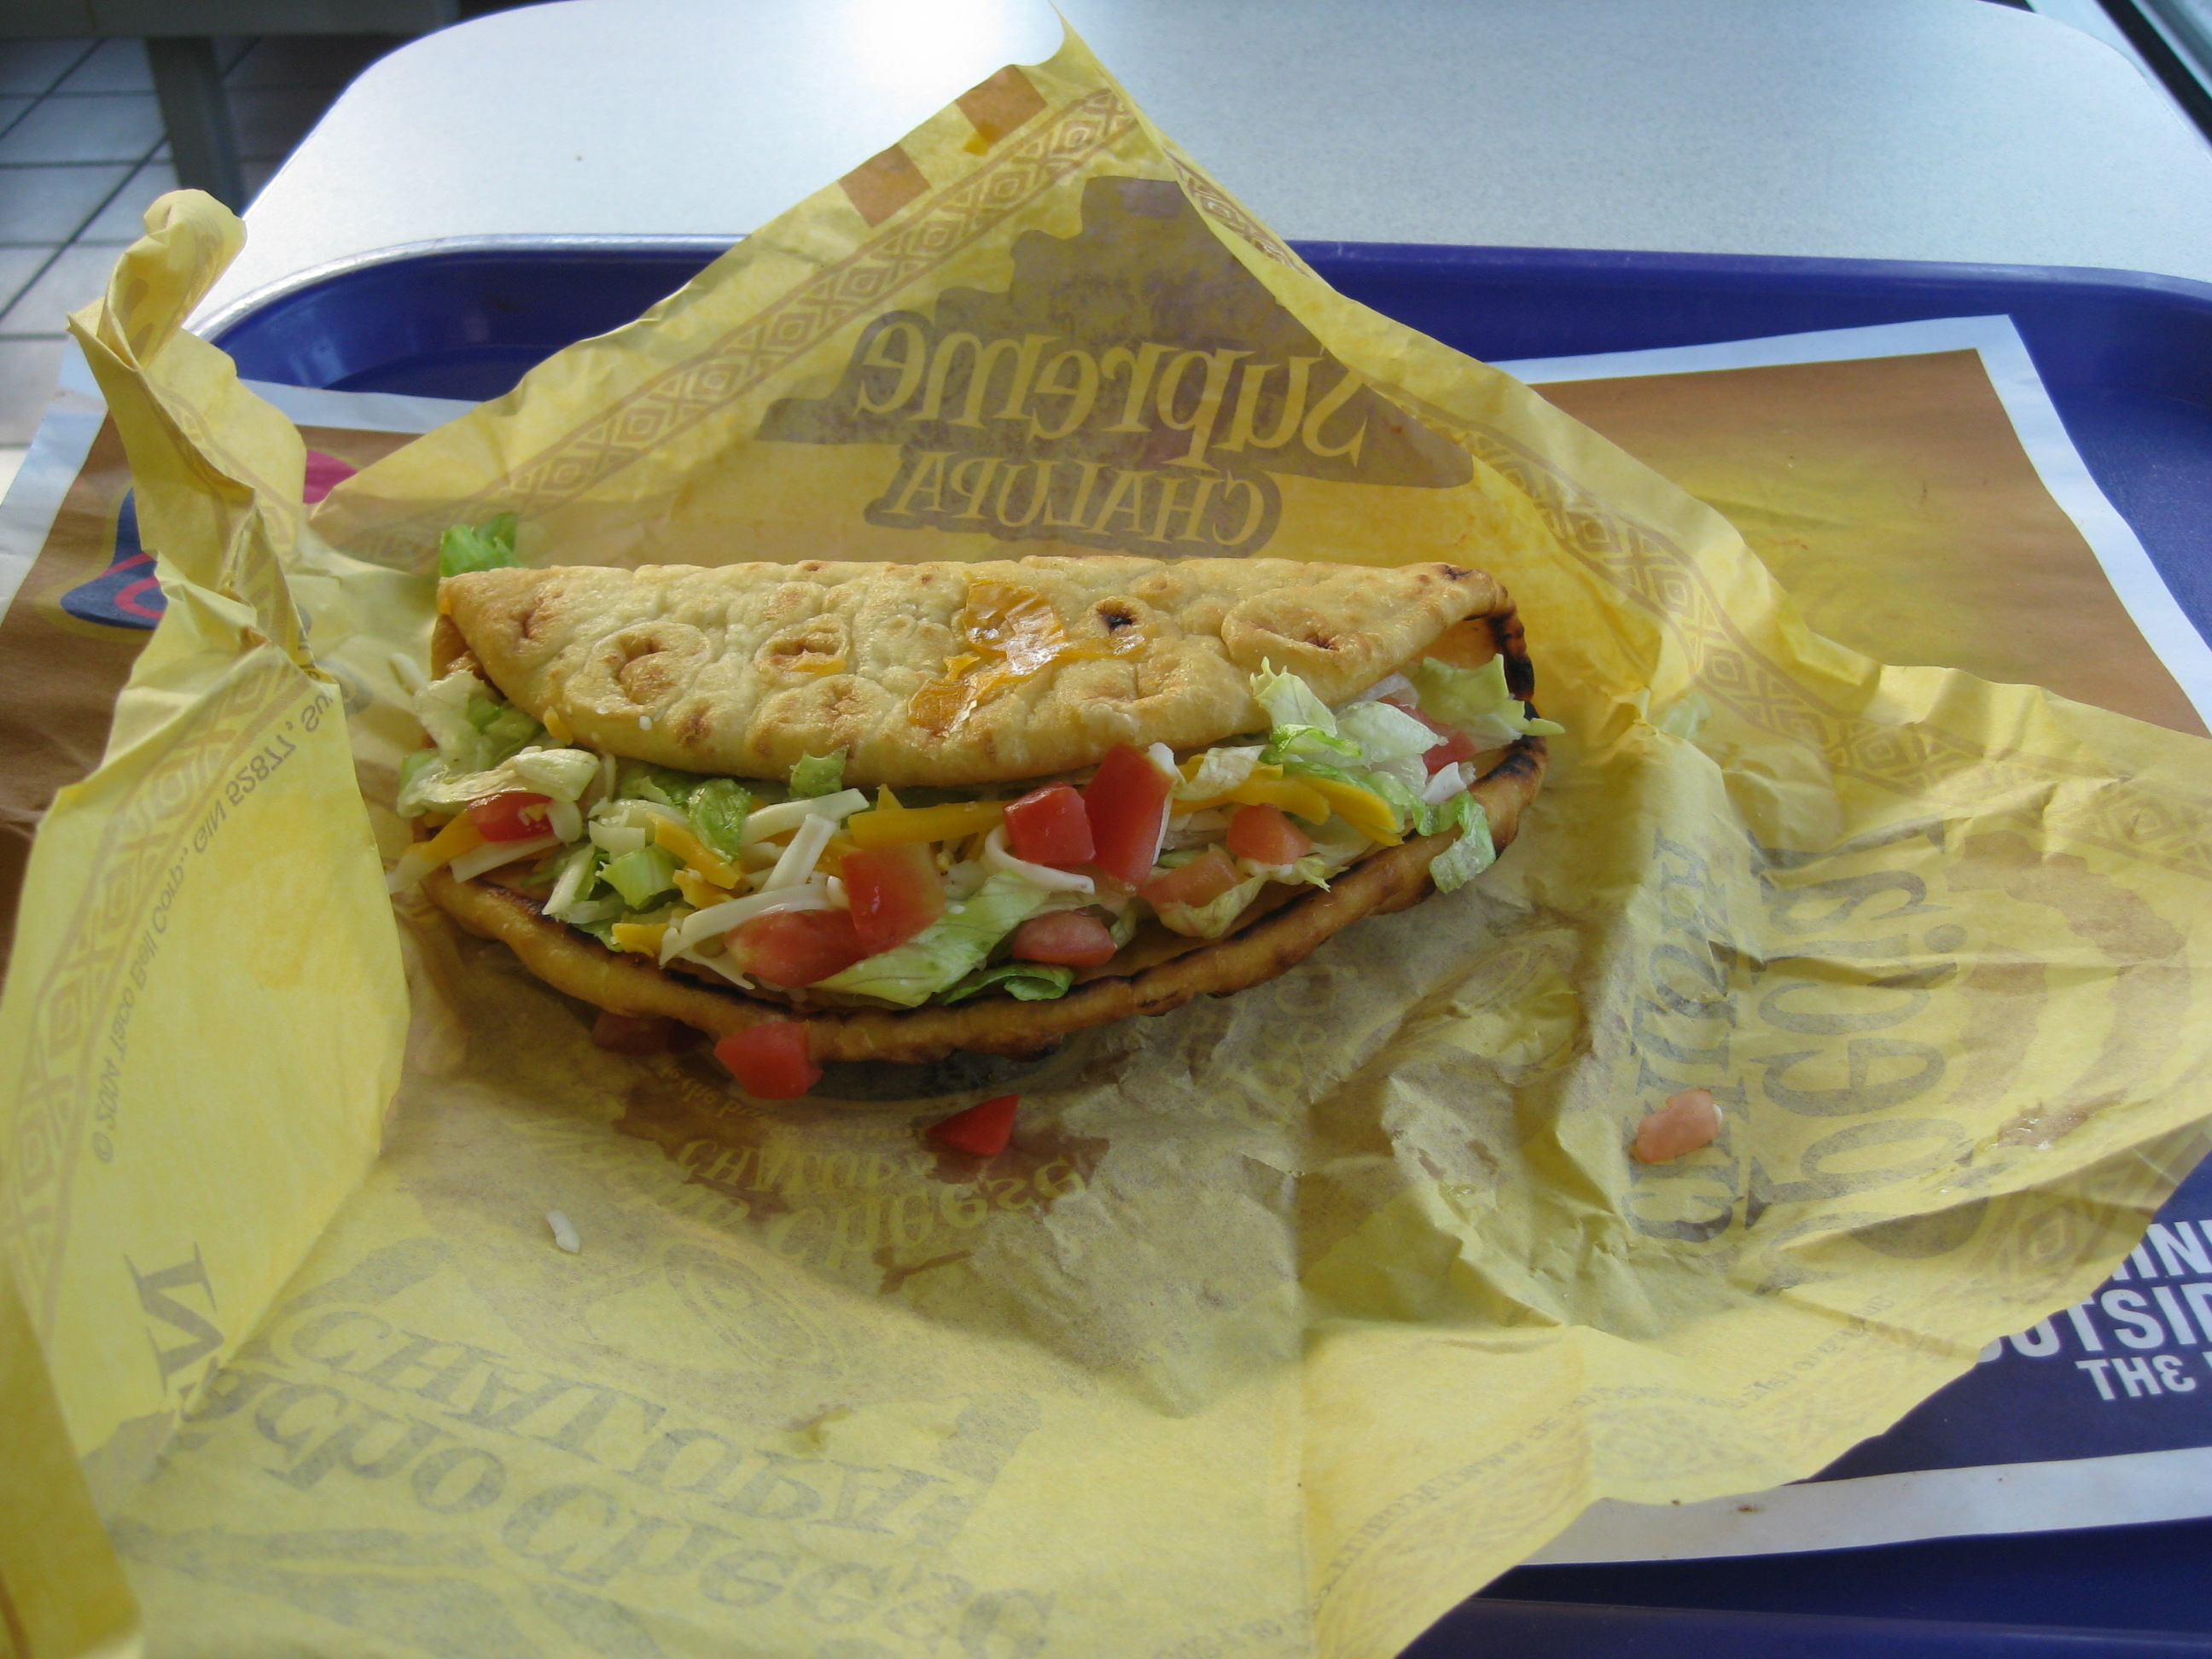taco: (387, 515, 1560, 1119)
